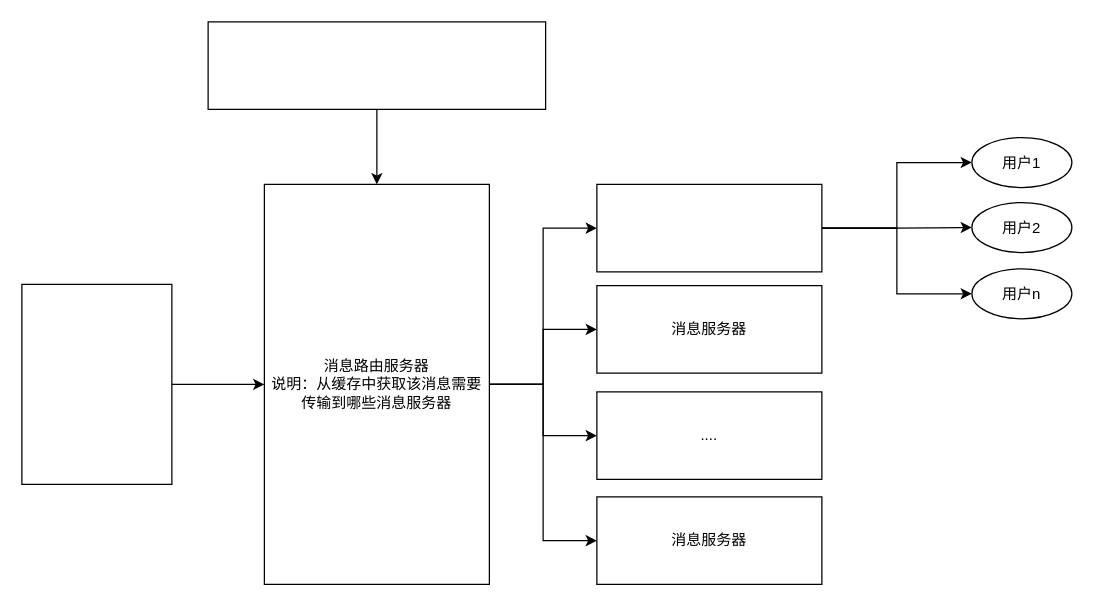
Image size: 1094x606. Some labels were removed from this diagram. Each missing label, with the centre of its shape:
"一条消息 1. 消息Id 2. 直播间信息" goes at point 96,383.
"消息服务器 说明：维护着用户正在观看哪场直播的信息，然后将消息推送给响应用户" goes at point 709,227.
"缓存系统 说明：维护者直播间 与 消息传输服务器列表" goes at point 376,65.
